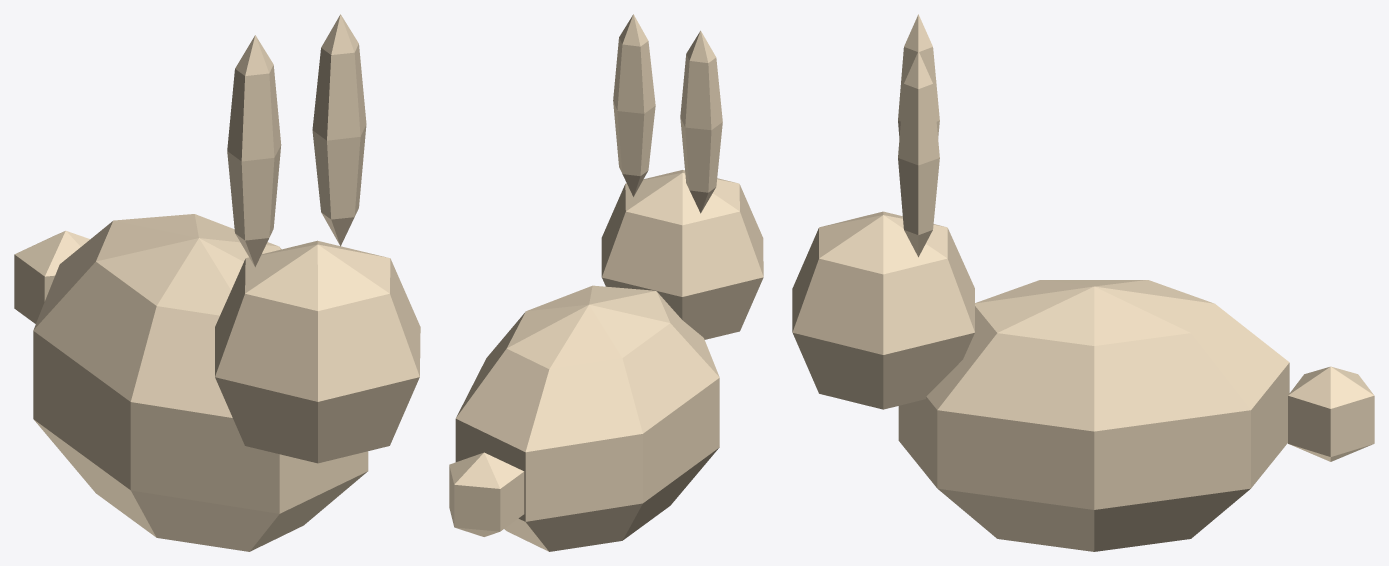
The model's file is rabbit.glb.
3 views of the same model, side by side, from view 1: azimuth 30°, elevation 25°; view 2: azimuth 150°, elevation 25°; view 3: azimuth 270°, elevation 25° (orthographic). The views are drawn at different scales.
Visible parts, largest first — view 1: rabbit; view 2: rabbit; view 3: rabbit.
Part boxes in pixels (bbox=[...]): rabbit: bbox=[14, 14, 420, 551]; rabbit: bbox=[449, 14, 763, 551]; rabbit: bbox=[792, 14, 1374, 551].
Bounding box in the file's own units: 0.2891 × 0.6396 × 0.6631.
